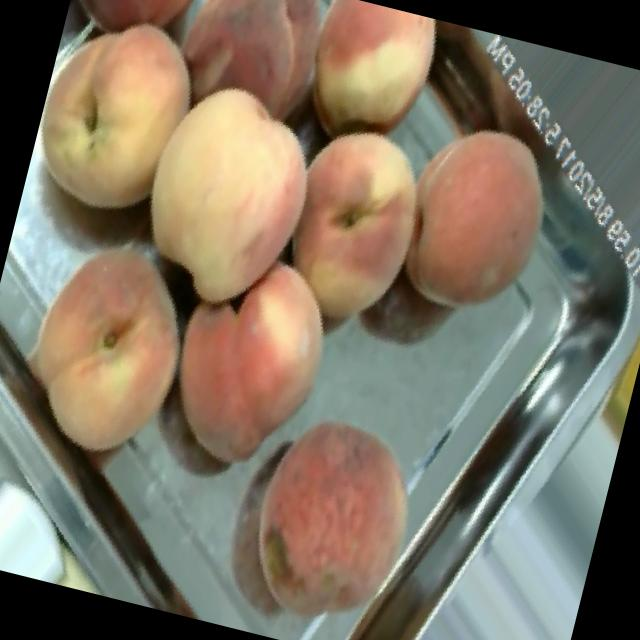Fruit: (181, 366, 472, 640), (0, 199, 235, 498), (101, 49, 335, 339), (147, 228, 370, 508), (16, 0, 241, 255), (368, 95, 588, 352), (263, 93, 462, 357), (286, 0, 466, 181)
